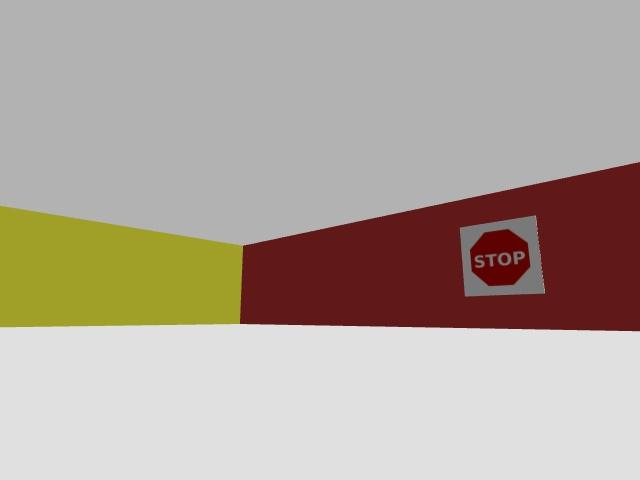stop: (461, 216, 544, 296)
